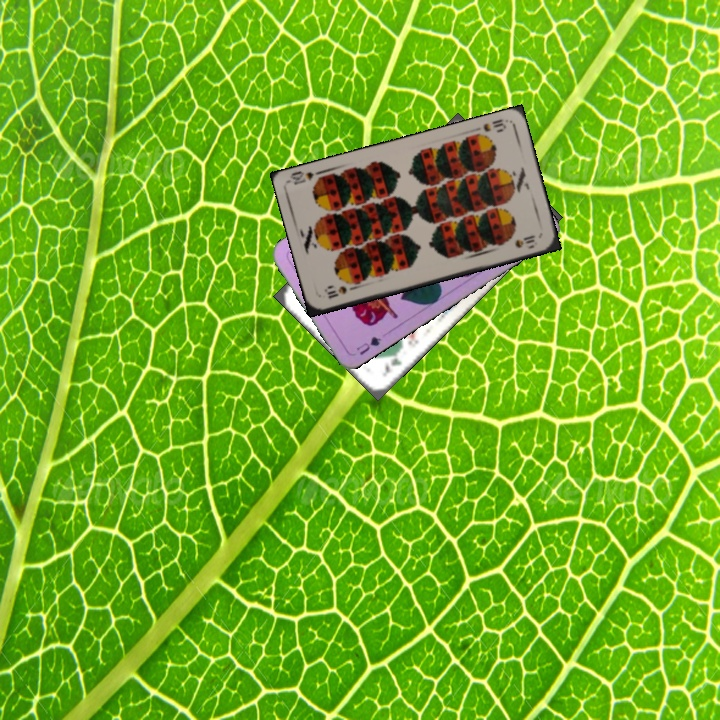GK: (377, 345, 404, 379)
GU: (352, 332, 384, 358)
S10: (321, 282, 359, 301), (479, 115, 509, 135)
